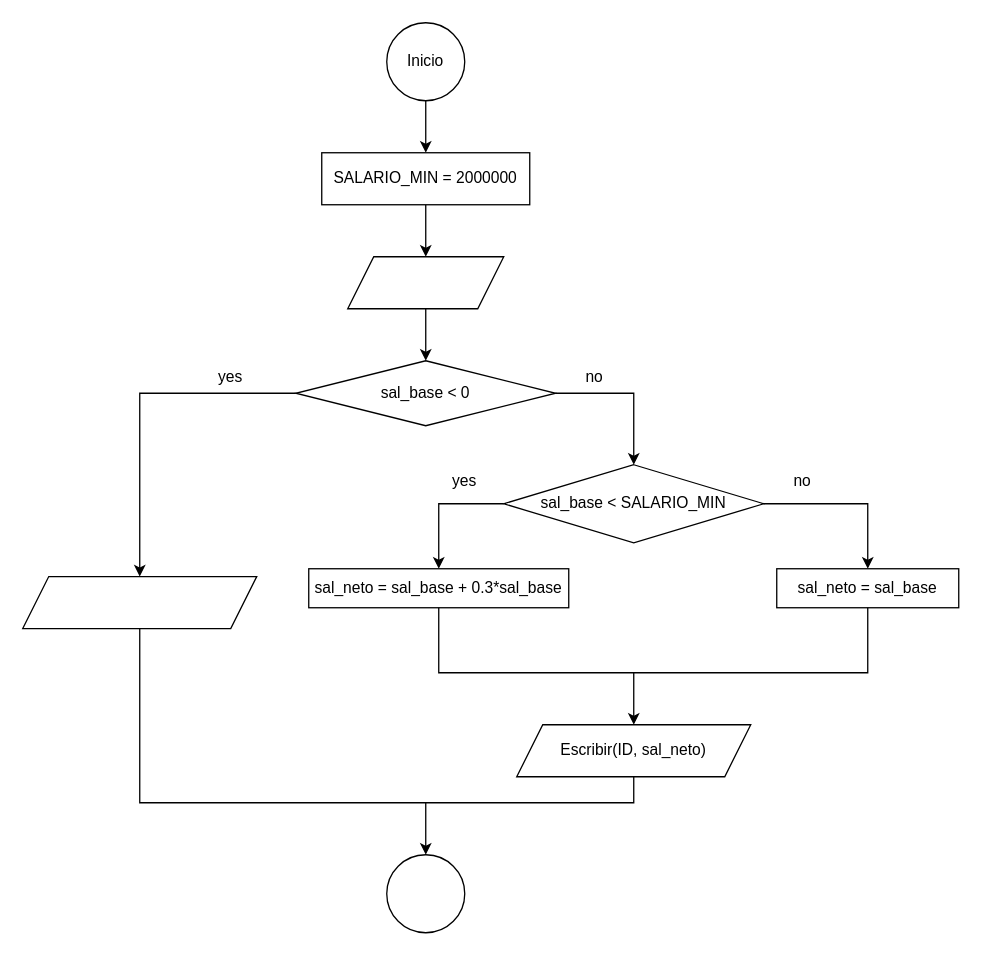
This 981x955 diagram has some shape labels left out. Here are the shapes that lost their labels. From the top down, the centre of each, then its label:
At (425,282): "Leer(ID) Leer(sal_base)".
At (139,602): "Escribir('ERROR: Salario no valido')".
At (425,893): "Fin".
